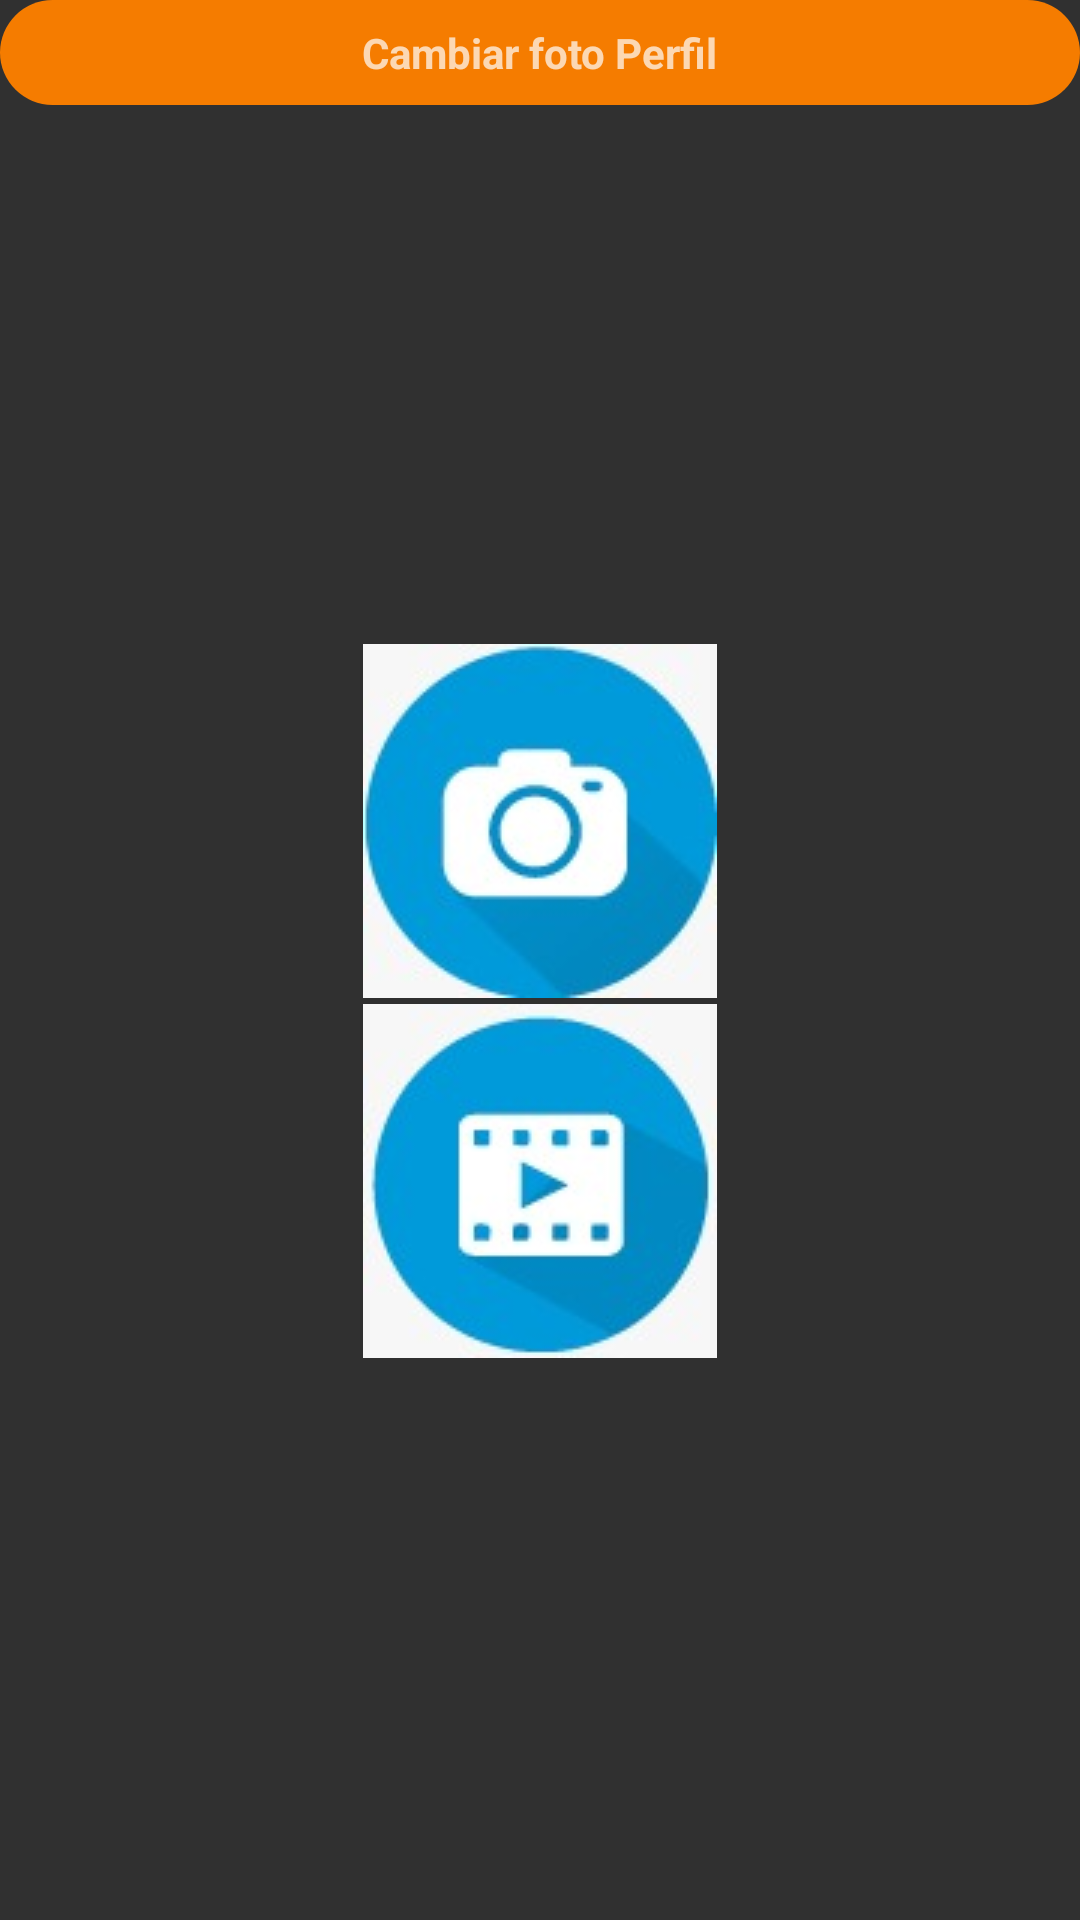

Icons on this 1080*1920 Android screen, each with its box as (x1, y1, x2, y2):
photos: (363, 644, 717, 998)
video post: (363, 1004, 717, 1358)
